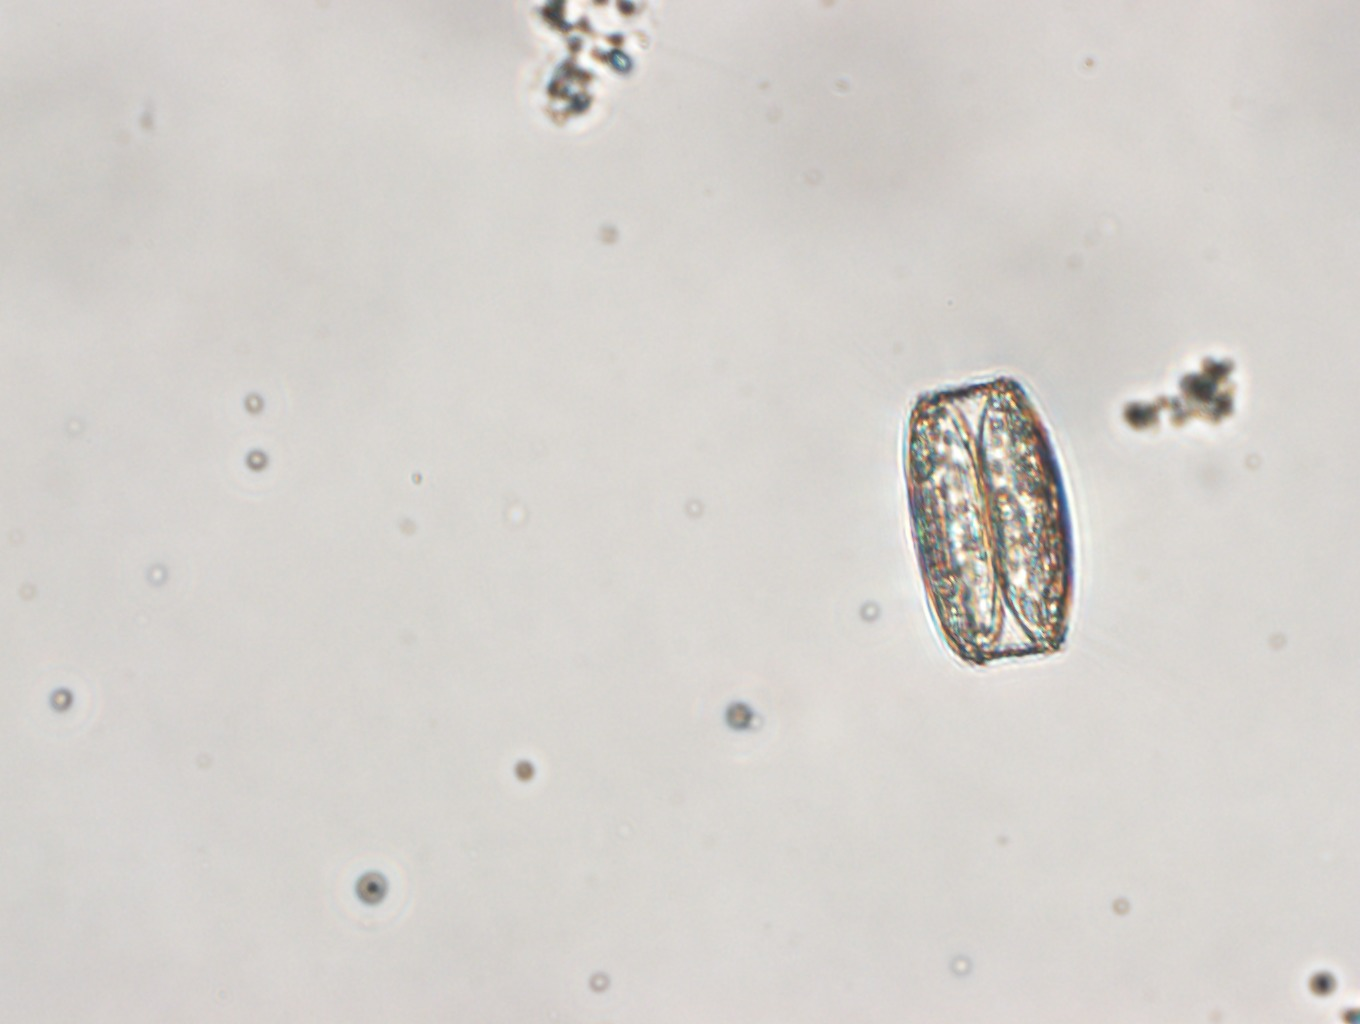coscinodiscus flank: (901, 378, 1074, 667)
